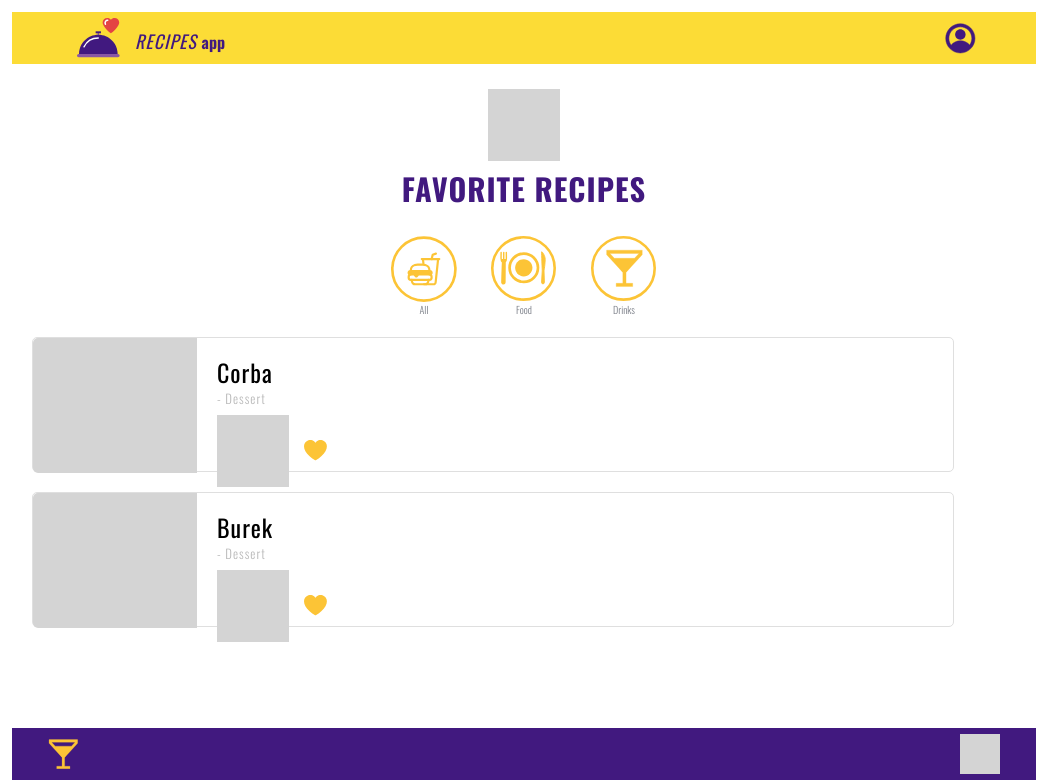
Test case: Testes referentes ao componente RecipesDetails › Verifica se ao desfavoritar uma receita ela é removida da pagina
Click the button with test id "horizontal-favorite-btn" at x=308, y=449, box [289, 436, 327, 461]
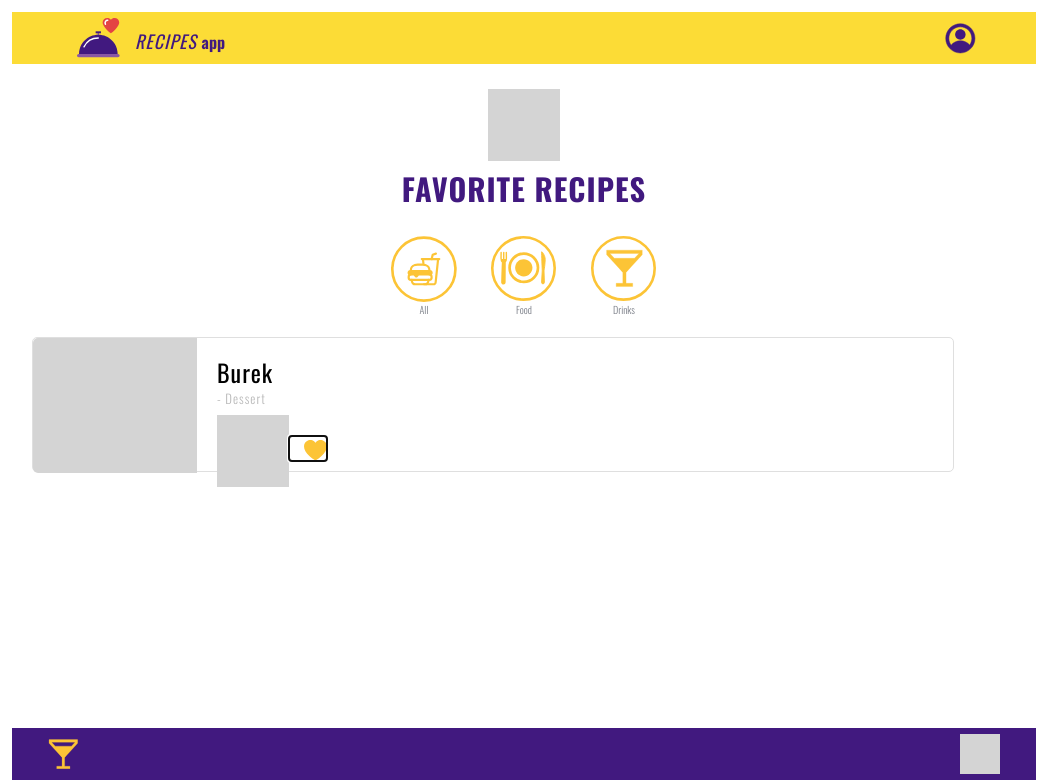
Expected: the heading with test id "0-horizontal-name" reads "Burek", [217, 354, 273, 390]
